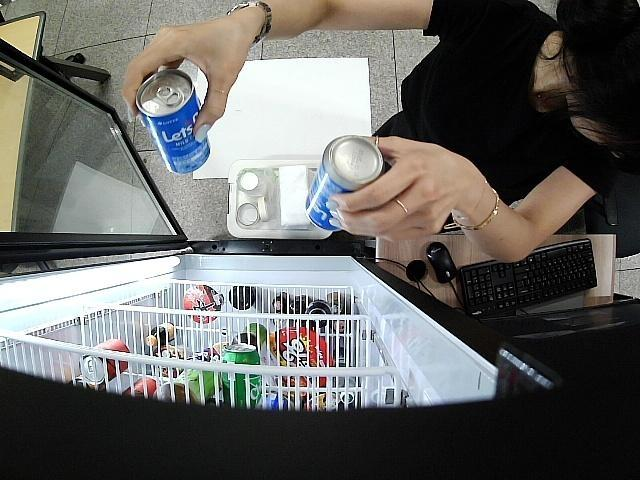15_letsbe: (134, 66, 212, 174), (303, 134, 384, 232)
